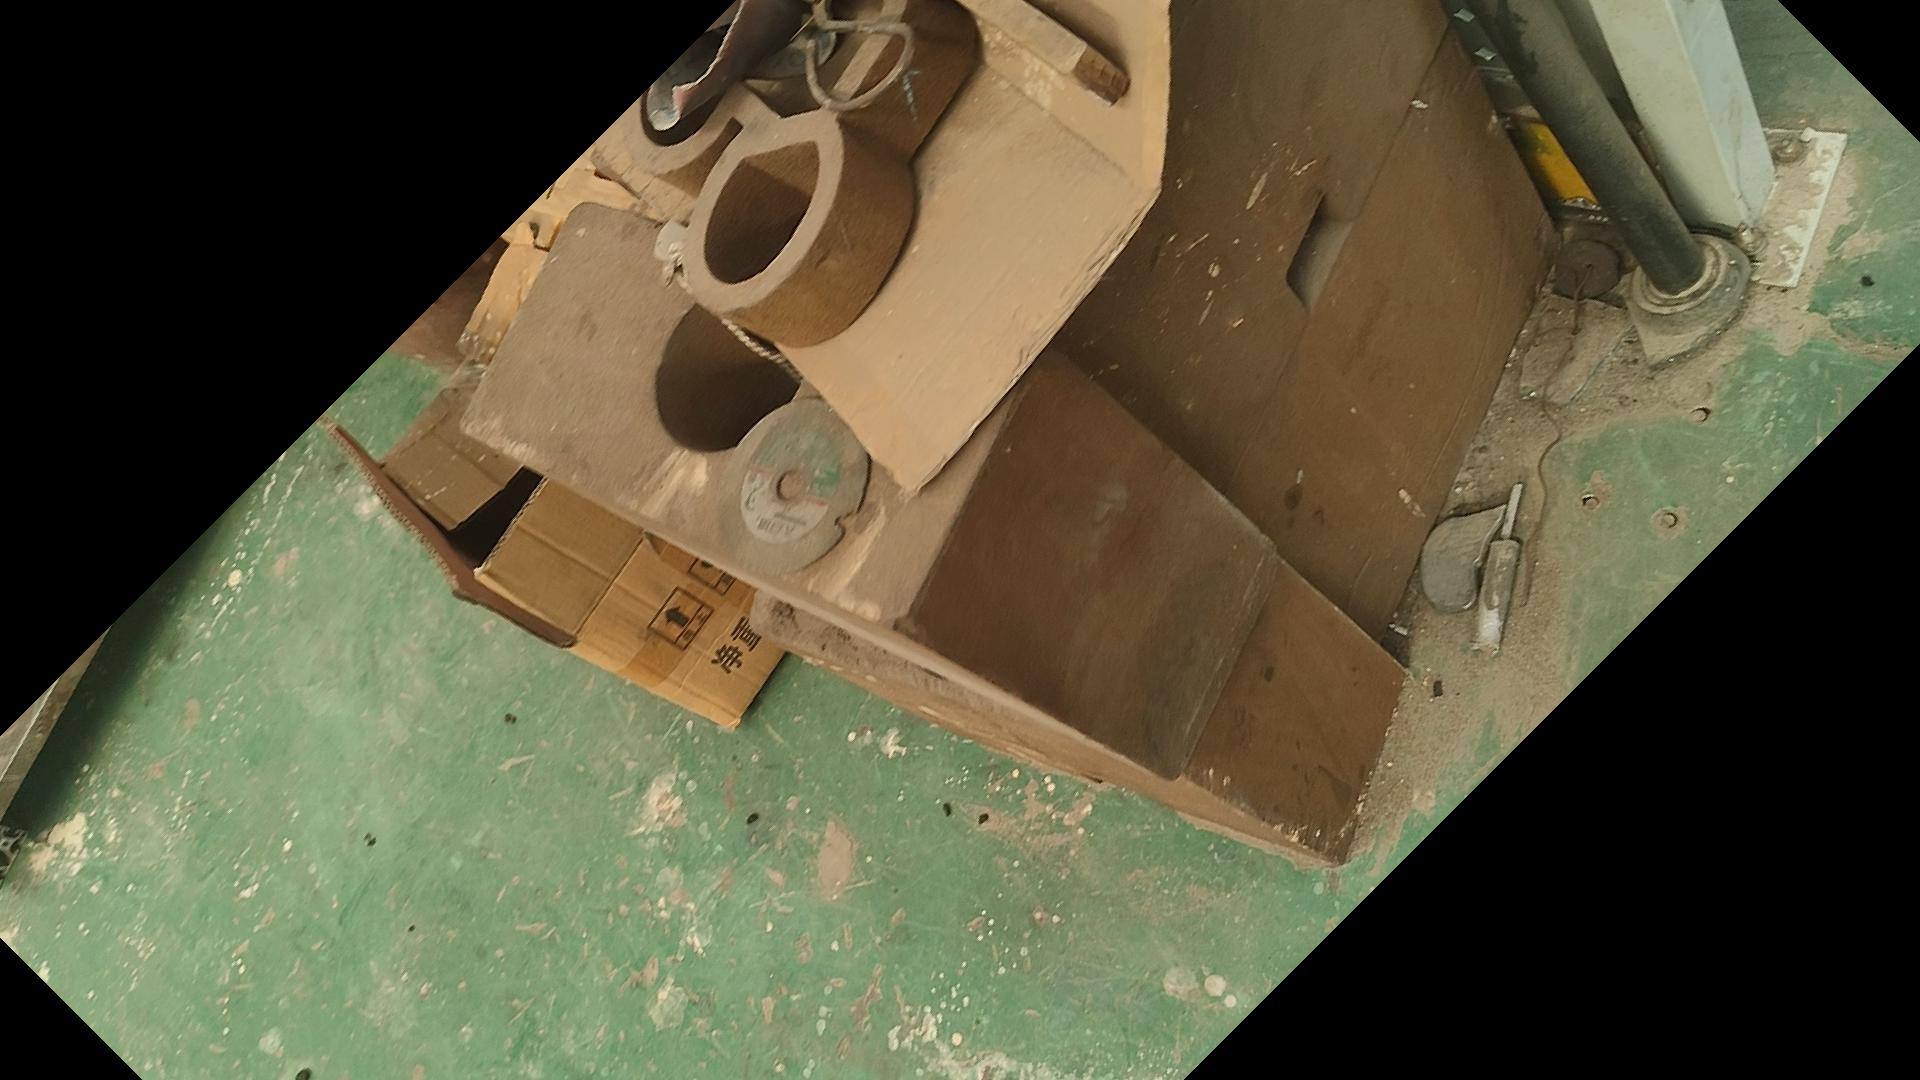pouring hole: (653, 290, 803, 454)
